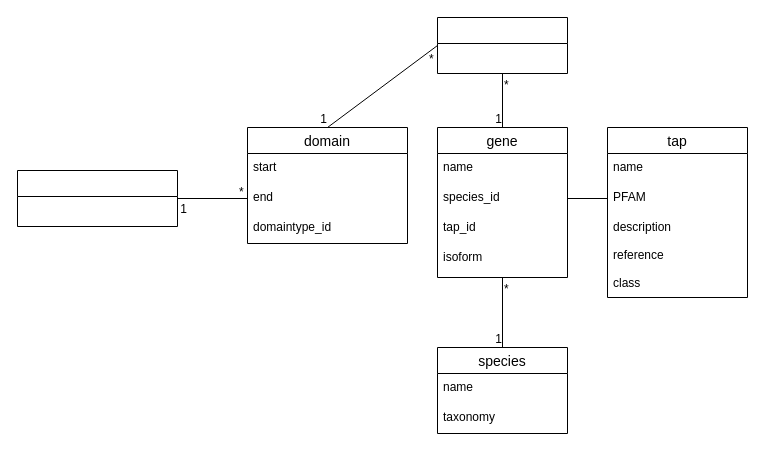
Some shapes in this 765 by 454 pixel diagram are drawn without their labels. The shapes that lost their labels are listed below. From the top down, each one's centre as x and y in pixels, then its label:
At [502,45]: "genedomain".
At [97,198]: "domaintype".
